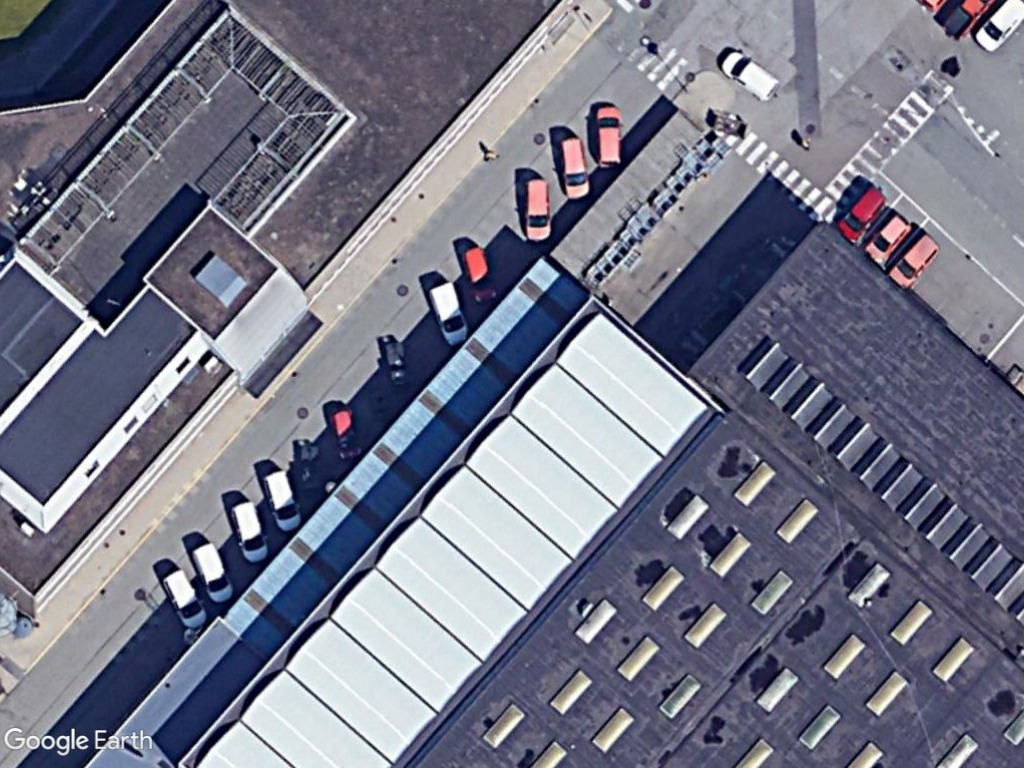van: (717, 47, 784, 107), (830, 180, 890, 247), (884, 226, 942, 292), (423, 276, 474, 349), (225, 492, 276, 565), (160, 564, 212, 633), (186, 540, 238, 608), (860, 204, 916, 267), (261, 464, 308, 535), (516, 174, 559, 247), (588, 101, 632, 171), (553, 131, 595, 202)
